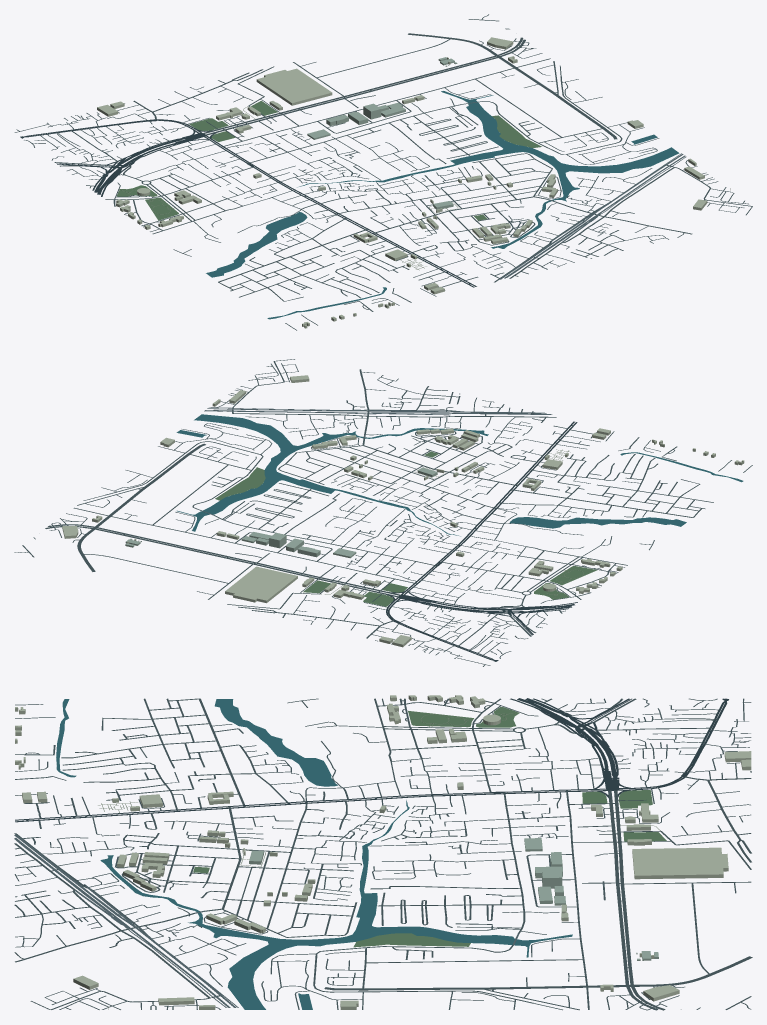
3 views of the same model, one above another, from view 1: azimuth 30°, elevation 25°; view 2: azimuth 150°, elevation 25°; view 3: azimuth 270°, elevation 25° (orthographic). The views are drawn at different scales.
Visible parts, largest first — view 1: street, building, water, major, green, building-tagged, bridge; view 2: street, building, water, major, green, bridge, building-tagged; view 3: street, building, water, major, green, bridge, building-tagged.
Boxes of the visible parts, <box> form: street: <box>14,14,752,330</box>; building: <box>97,37,730,328</box>; water: <box>206,91,679,319</box>; major: <box>20,119,551,287</box>; green: <box>117,101,541,220</box>; building-tagged: <box>307,57,457,209</box>; bridge: <box>352,98,686,279</box>; street: <box>14,359,752,666</box>; building: <box>62,375,744,647</box>; water: <box>176,414,743,536</box>; major: <box>385,414,577,661</box>; green: <box>215,451,597,606</box>; bridge: <box>198,407,552,557</box>; building-tagged: <box>125,467,437,558</box>; street: <box>14,698,752,1010</box>; building: <box>15,695,751,1009</box>; water: <box>56,699,572,1009</box>; major: <box>15,698,728,885</box>; green: <box>193,707,666,947</box>; bridge: <box>14,834,604,1007</box>; building-tagged: <box>249,838,658,960</box>.
Size of the model in its own units: 2009 by 37 by 2008.
